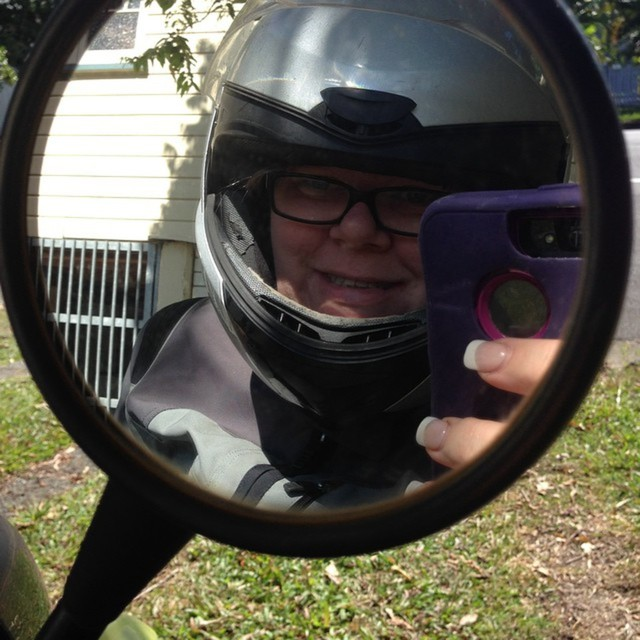helmet: (209, 10, 553, 374)
